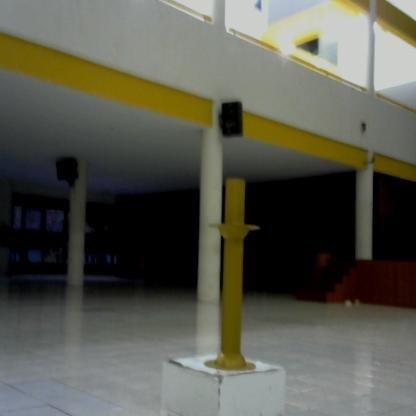pole: (201, 176, 268, 377)
